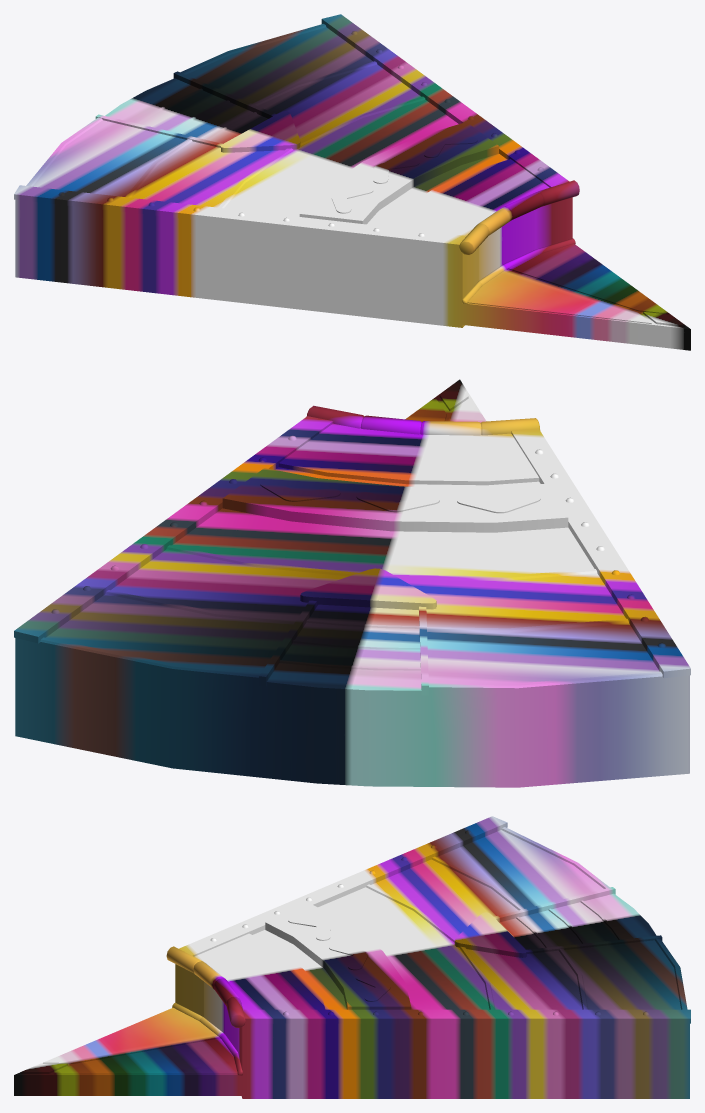
The model's file is FX_JM_Roof_Floor_01.FBX.
The picture shows the model from 3 angles, top to bottom: view 1: azimuth 30°, elevation 25°; view 2: azimuth 150°, elevation 25°; view 3: azimuth 270°, elevation 25°; orthographic projection. The views are drawn at different scales.
Parts seen in each view (by area): view 1: BG_Roof_Floor_001; view 2: BG_Roof_Floor_001; view 3: BG_Roof_Floor_001.
Part boxes in pixels (x1,y1,x2,y2): BG_Roof_Floor_001: (14,14,690,350); BG_Roof_Floor_001: (14,379,690,787); BG_Roof_Floor_001: (14,816,690,1098).
Bounding box in the file's own units: 741 × 144 × 1044.
